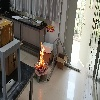fire: (36, 41, 45, 69)
